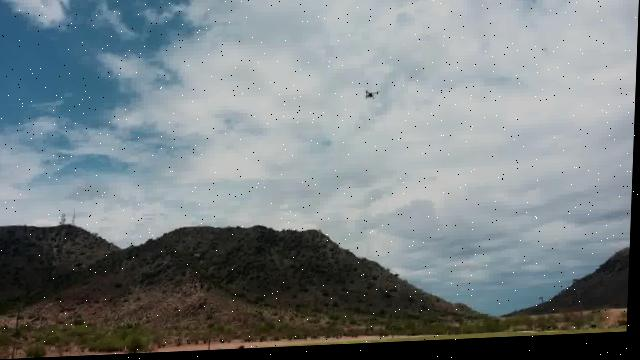drone: (365, 91, 381, 103)
